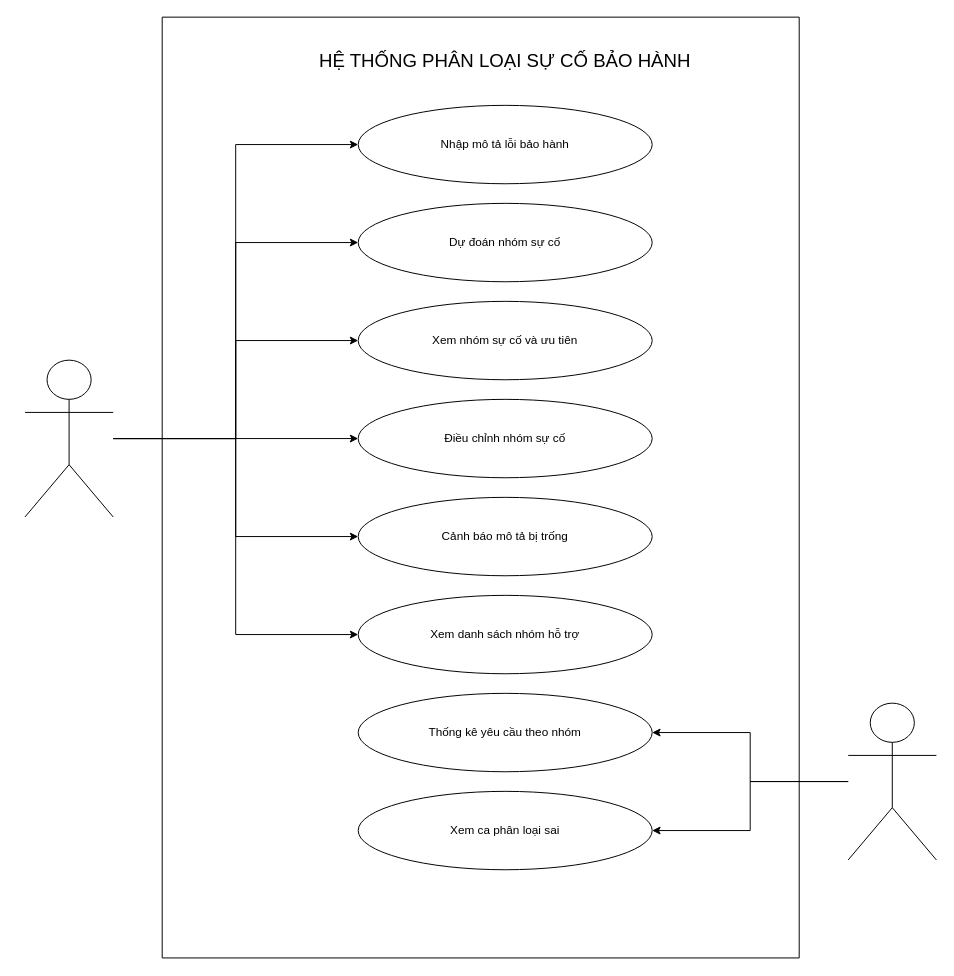
Image size: 954x976. Some labels were removed from this diagram. The centre of each missing label's shape, as x and y in pixels:
"Admin" belongs at (891,781).
"Nhân viên tiếp nhận" belongs at (68,438).
